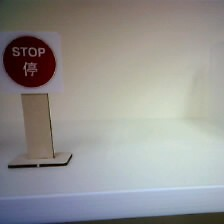stop: (2, 33, 62, 93)
